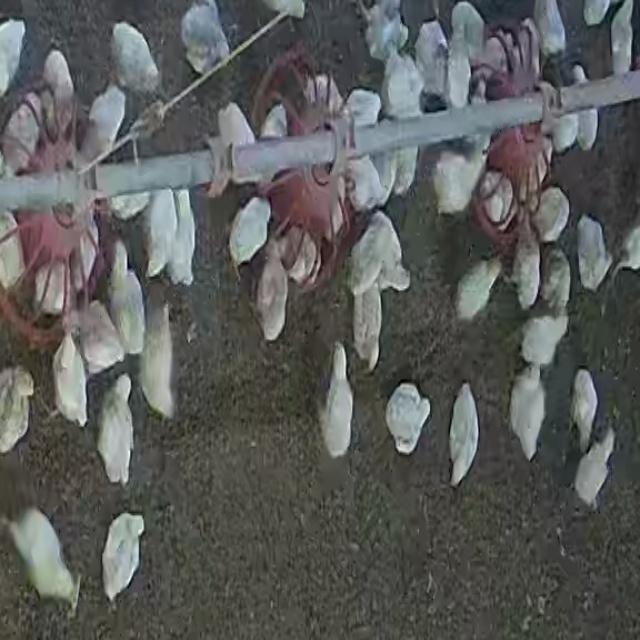chicken: (7, 506, 83, 612), (209, 100, 259, 202), (347, 212, 405, 297), (318, 336, 358, 457), (140, 297, 178, 423), (107, 241, 146, 357), (77, 84, 127, 171), (96, 377, 135, 488), (101, 512, 146, 605), (429, 147, 486, 218), (109, 20, 161, 95), (76, 300, 126, 378), (180, 1, 231, 76), (254, 240, 290, 342), (572, 424, 616, 507), (448, 383, 482, 487), (53, 332, 89, 430), (384, 382, 431, 456), (378, 46, 426, 118), (1, 96, 43, 178), (227, 196, 272, 272), (413, 19, 451, 109), (509, 369, 546, 461), (454, 258, 503, 324), (358, 0, 408, 64), (252, 105, 288, 188), (1, 364, 34, 454), (146, 190, 180, 277), (518, 310, 568, 369), (69, 207, 102, 295), (44, 48, 75, 138), (576, 217, 612, 294), (344, 154, 388, 215), (171, 191, 199, 286), (354, 282, 383, 370), (511, 228, 541, 312), (570, 369, 599, 455), (570, 66, 598, 152), (34, 257, 73, 316), (449, 1, 486, 61), (532, 186, 570, 244), (541, 246, 571, 316), (0, 18, 26, 96), (305, 69, 344, 121), (532, 0, 566, 59), (0, 210, 24, 292), (480, 171, 514, 227), (447, 38, 472, 110), (286, 232, 319, 286), (550, 97, 579, 155), (345, 90, 382, 128), (392, 149, 418, 199), (110, 235, 130, 300), (109, 192, 152, 222)
